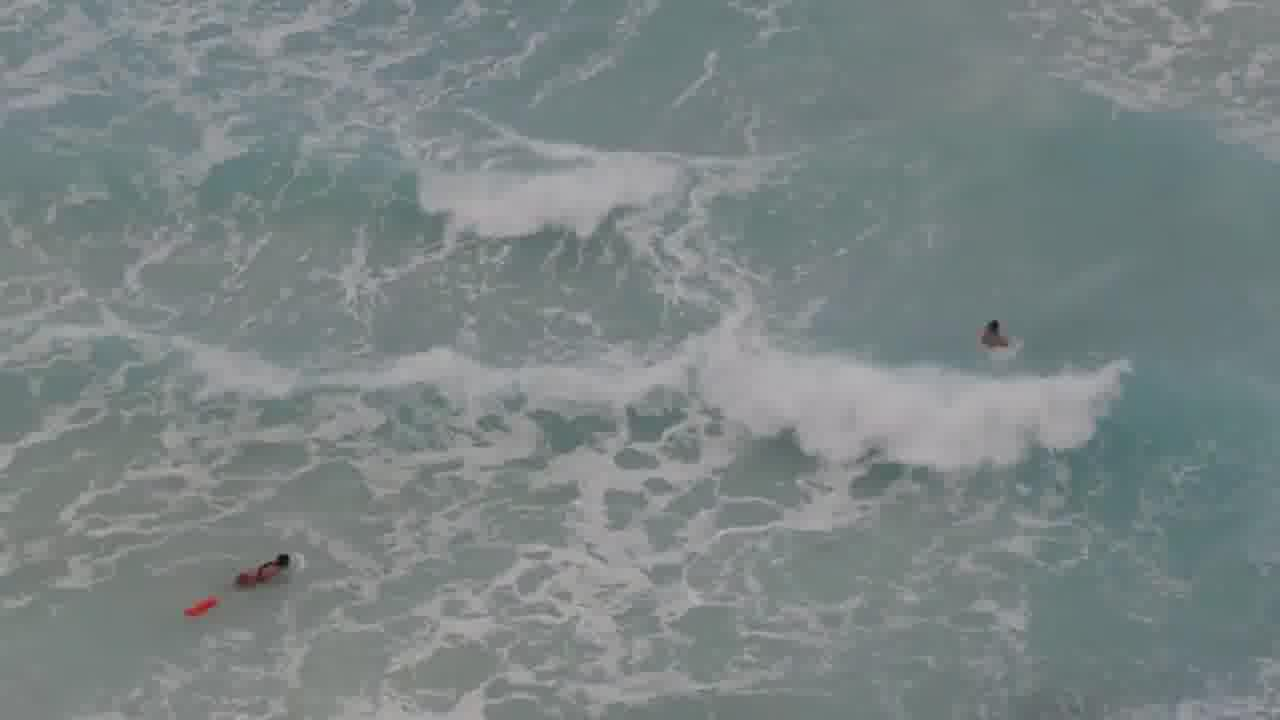swimmer: (238, 545, 309, 595), (970, 313, 1019, 363)
